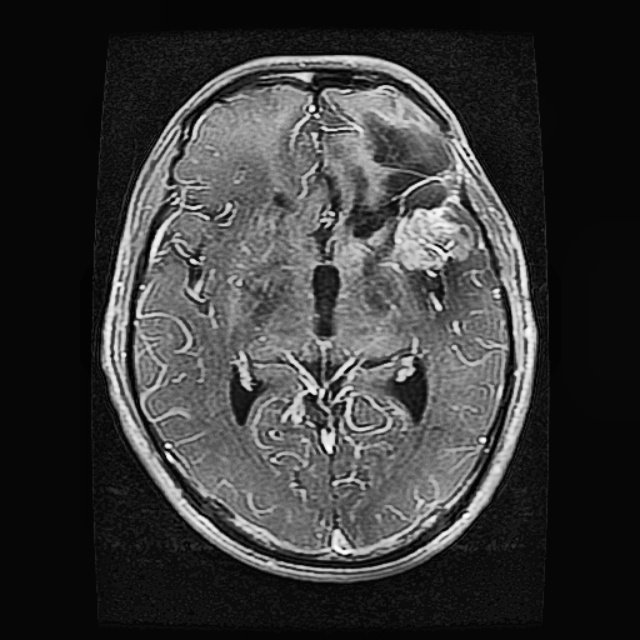Meningioma: (345, 105, 482, 279)
